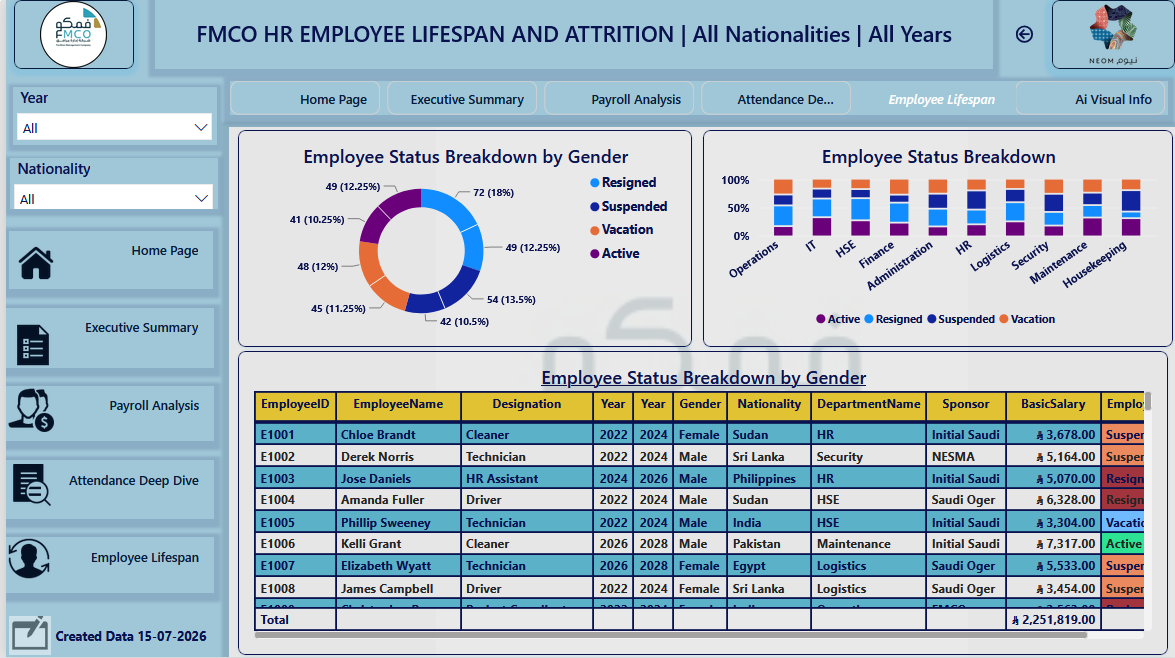

Layout of this report page (visuals, bound fields, positions):
{"tool":"powerbi","page":{"name":"Employee Lifespan ","canvas":[1280,720],"ordinal":4},"visuals":[{"type":"image","box":[8.6,0,131.4,75.7],"z":0},{"type":"actionButton","box":[3.5,253.4,224.2,63.8],"z":0,"group":"g2"},{"type":"image","box":[6.5,261.3,51.2,56.3],"z":0,"group":"g4"},{"type":"actionButton","box":[0,337.7,227.8,65.4],"z":0,"group":"g1"},{"type":"image","box":[3.3,675,46.2,43.3],"z":0,"group":"g3"},{"type":"image","box":[1145.7,0,134.3,75.7],"z":1000},{"type":"slicer","fields":{"Values":["DimDate.Year"]},"box":[7.4,95.7,223.6,62.6],"z":1000,"group":"g5"},{"type":"group","id":"g1","title":"Group 1","box":[0,337.7,227.8,311.9],"z":1000,"group":"g2"},{"type":"image","box":[6.1,348.7,47.7,58.4],"z":1000,"group":"g4"},{"type":"actionButton","box":[0,424,227.8,60.6],"z":1000,"group":"g1"},{"type":"textbox","box":[49.5,687.4,177.1,31],"z":1000,"group":"g3"},{"type":"group","id":"g2","title":"Group 3","box":[0,253.4,227.8,396.2],"z":2000,"group":"g4"},{"type":"actionButton","box":[0,504.7,227.8,63.8],"z":2000,"group":"g1"},{"type":"group","id":"g3","title":"Group 2","box":[3.3,675,223.3,43.3],"z":2000},{"type":"group","id":"g4","title":"Group 4","box":[0,253.4,227.8,396.2],"z":3000},{"type":"actionButton","box":[0,589,227.8,60.6],"z":3000,"group":"g1"},{"type":"image","box":[1188.6,188.6,70,37.1],"z":4000},{"type":"image","box":[1.7,420,51.5,55.7],"z":4000,"group":"g1"},{"type":"image","box":[1188.6,174.3,68.6,37.1],"z":5000},{"type":"image","box":[2.4,501.6,46.6,59.5],"z":5000,"group":"g1"},{"type":"image","box":[1188.6,190,70,37.1],"z":6000},{"type":"image","box":[1.8,582.9,47.7,57.4],"z":6000,"group":"g1"},{"type":"image","box":[244.7,137.9,1035.9,581.7],"z":7000},{"type":"card","fields":{"Values":["All mesures.Lifespan Page Title"]},"box":[162.9,0,918.6,75.7],"z":9000},{"type":"group","id":"g5","title":"Group 5","box":[4.3,95.7,228.6,132.9],"z":10000},{"type":"donutChart","title":"Employee Status Breakdown by Gender","fields":{"Category":["DimEmployee.EmployeeStatus"],"Y":["All mesures.Total Headcount"],"Series":["DimEmployee.Gender"]},"box":[254.3,142.9,497.1,237.1],"z":11000},{"type":"hundredPercentStackedColumnChart","title":"Employee Status Breakdown","fields":{"Category":["DimDepartment.DepartmentName"],"Y":["All mesures.Total Headcount"],"Series":["DimEmployee.EmployeeStatus"]},"box":[762.9,142.9,515,237.1],"z":12000},{"type":"tableEx","title":"Employee Status Breakdown by Gender","fields":{"Values":["DimEmployee.EmployeeID","DimEmployee.EmployeeName","DimEmployee.Designation","DimEmployee.JoinDate.Variation.Date Hierarchy.Year","DimEmployee.EndDate.Variation.Date Hierarchy.Year","DimEmployee.Gender","DimEmployee.Nationality","DimDepartment.DepartmentName","DimEmployee.Sponsor","Sum(DimEmployee.BasicSalary)","DimEmployee.EmployeeStatus"]},"box":[254.3,384.3,1018.6,332.9],"z":13000},{"type":"pageNavigator","box":[245.7,88.6,1027.1,37.1],"z":14000},{"type":"slicer","fields":{"Values":["DimNationality.Nationality"]},"box":[4.3,173.2,227.5,56.4],"z":14000,"group":"g5"},{"type":"actionButton","box":[1085.7,0,60,75.7],"z":15000}]}

Visuals, with their boxes on the page's 1280x720 design canvas (x1, y1, x2, y2). These are canvas units, not pixel positions in the 1175x658 screenshot, which may show the page scaled, cropped or inside an application window:
image: detection(9, 0, 140, 76)
actionButton: detection(4, 253, 228, 317)
image: detection(6, 261, 58, 318)
actionButton: detection(0, 338, 228, 403)
image: detection(3, 675, 50, 718)
image: detection(1146, 0, 1280, 76)
slicer - DimDate.Year: detection(7, 96, 231, 158)
"Group 1" group: detection(0, 338, 228, 650)
image: detection(6, 349, 54, 407)
actionButton: detection(0, 424, 228, 485)
textbox: detection(50, 687, 227, 718)
"Group 3" group: detection(0, 253, 228, 650)
actionButton: detection(0, 505, 228, 568)
"Group 2" group: detection(3, 675, 227, 718)
"Group 4" group: detection(0, 253, 228, 650)
actionButton: detection(0, 589, 228, 650)
image: detection(1189, 189, 1259, 226)
image: detection(2, 420, 53, 476)
image: detection(1189, 174, 1257, 211)
image: detection(2, 502, 49, 561)
image: detection(1189, 190, 1259, 227)
image: detection(2, 583, 50, 640)
image: detection(245, 138, 1281, 720)
card - All mesures.Lifespan Page Title: detection(163, 0, 1082, 76)
"Group 5" group: detection(4, 96, 233, 229)
"Employee Status Breakdown by Gender" donutChart: detection(254, 143, 751, 380)
"Employee Status Breakdown" hundredPercentStackedColumnChart: detection(763, 143, 1278, 380)
"Employee Status Breakdown by Gender" tableEx: detection(254, 384, 1273, 717)
pageNavigator: detection(246, 89, 1273, 126)
slicer - DimNationality.Nationality: detection(4, 173, 232, 230)
actionButton: detection(1086, 0, 1146, 76)
